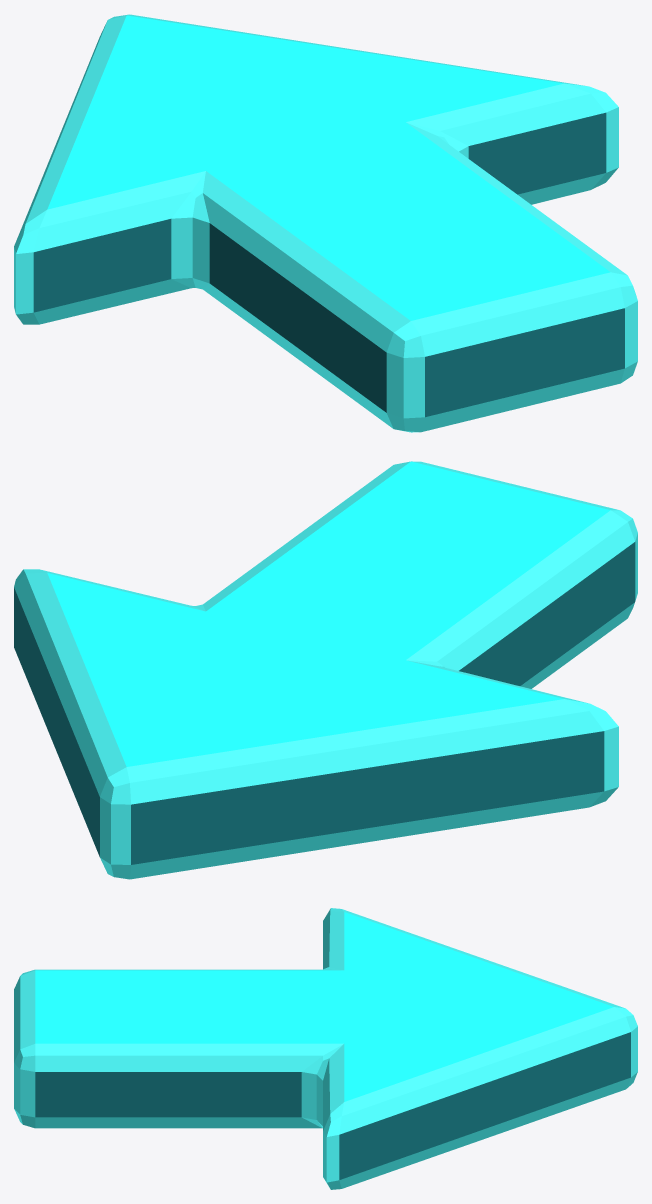
The model's file is rescue-arrow.glb.
3 views of the same model, one above another, from view 1: azimuth 30°, elevation 25°; view 2: azimuth 150°, elevation 25°; view 3: azimuth 270°, elevation 25° (orthographic). The views are drawn at different scales.
Parts seen in each view (by area): view 1: Rescue navigation arrow; view 2: Rescue navigation arrow; view 3: Rescue navigation arrow.
Part boxes in pixels (x1,y1,x2,y2): Rescue navigation arrow: [14, 14, 637, 432]; Rescue navigation arrow: [14, 461, 637, 879]; Rescue navigation arrow: [14, 908, 637, 1189].
Size of the model in its own units: 1.36 by 0.24 by 1.62.
